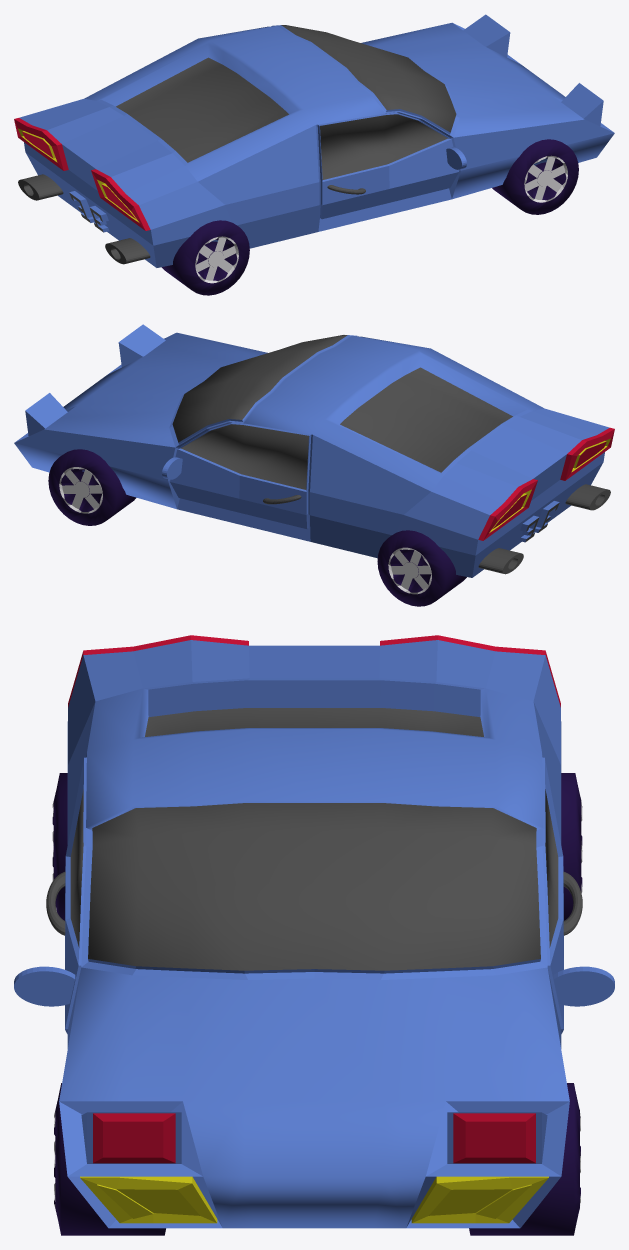
The model's file is kurama.fbx.
3 views of the same model, one above another, from view 1: azimuth 30°, elevation 25°; view 2: azimuth 150°, elevation 25°; view 3: azimuth 270°, elevation 25° (orthographic). The views are drawn at different scales.
Visible parts, largest first — view 1: Cube, Cylinder.002, Cylinder.003; view 2: Cube, Cylinder, Cylinder.001; view 3: Cube, Cylinder.001, Cylinder.003, Cylinder, Cylinder.002.
Part boxes in pixels (x1,y1,x2,y2): Cube: (14,14,614,267); Cylinder.002: (161,220,249,295); Cylinder.003: (492,139,578,214); Cube: (14,324,614,577); Cylinder: (377,530,466,606); Cylinder.001: (48,449,136,525); Cube: (14,635,614,1228); Cylinder.001: (469,1083,580,1235); Cylinder.003: (54,1083,165,1235); Cylinder: (561,773,582,920); Cylinder.002: (52,773,67,920).
Size of the model in its own units: 549 by 165 by 309.
